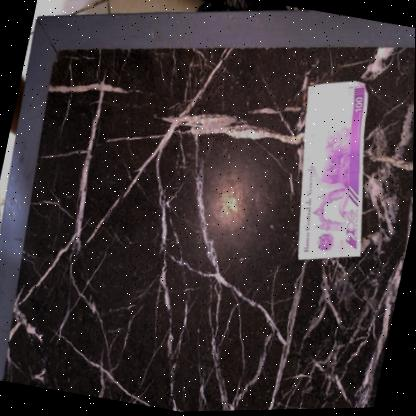one_hundred-back-vef: (272, 72, 396, 274)
